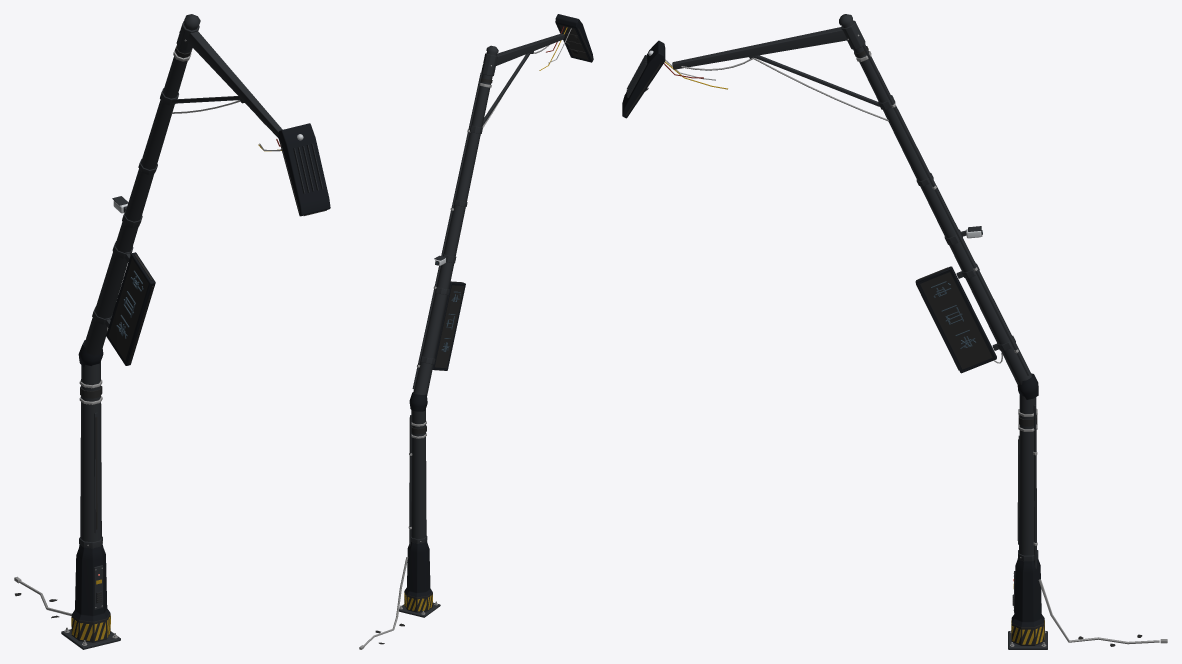
File: StreetLight_Broken.fbx
The picture shows the model from 3 angles, left to right: view 1: azimuth 30°, elevation 25°; view 2: azimuth 150°, elevation 25°; view 3: azimuth 270°, elevation 25°; orthographic projection. The views are drawn at different scales.
Parts seen in each view (by area): view 1: StreetLight_Broken_LOD0; view 2: StreetLight_Broken_LOD0; view 3: StreetLight_Broken_LOD0.
Boxes of the visible parts, left/top/right/bottom form: StreetLight_Broken_LOD0: left=14, top=14, right=330, bottom=649; StreetLight_Broken_LOD0: left=359, top=14, right=593, bottom=649; StreetLight_Broken_LOD0: left=622, top=14, right=1167, bottom=649.
Size of what is drawn, in the model's own units: 0.34 by 5.89 by 4.64.
